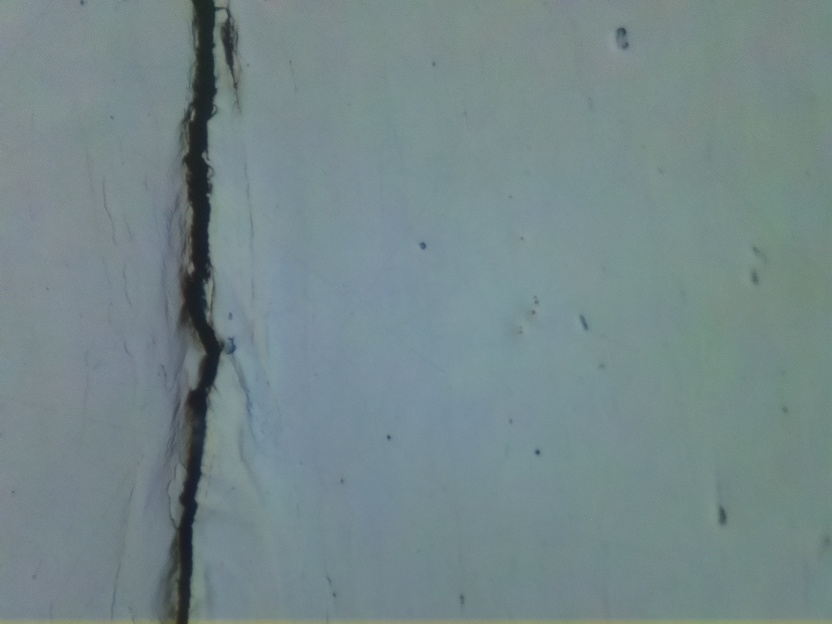crack: (166, 0, 224, 621), (219, 7, 238, 82)
